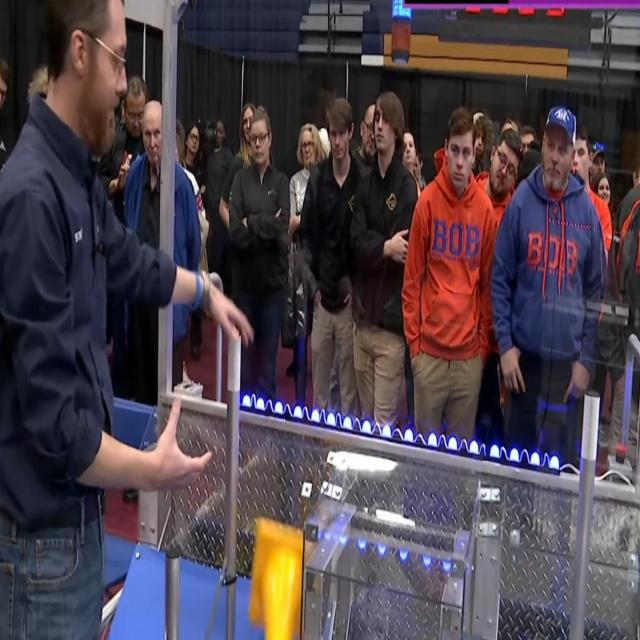frc_cone: (248, 521, 318, 640)
